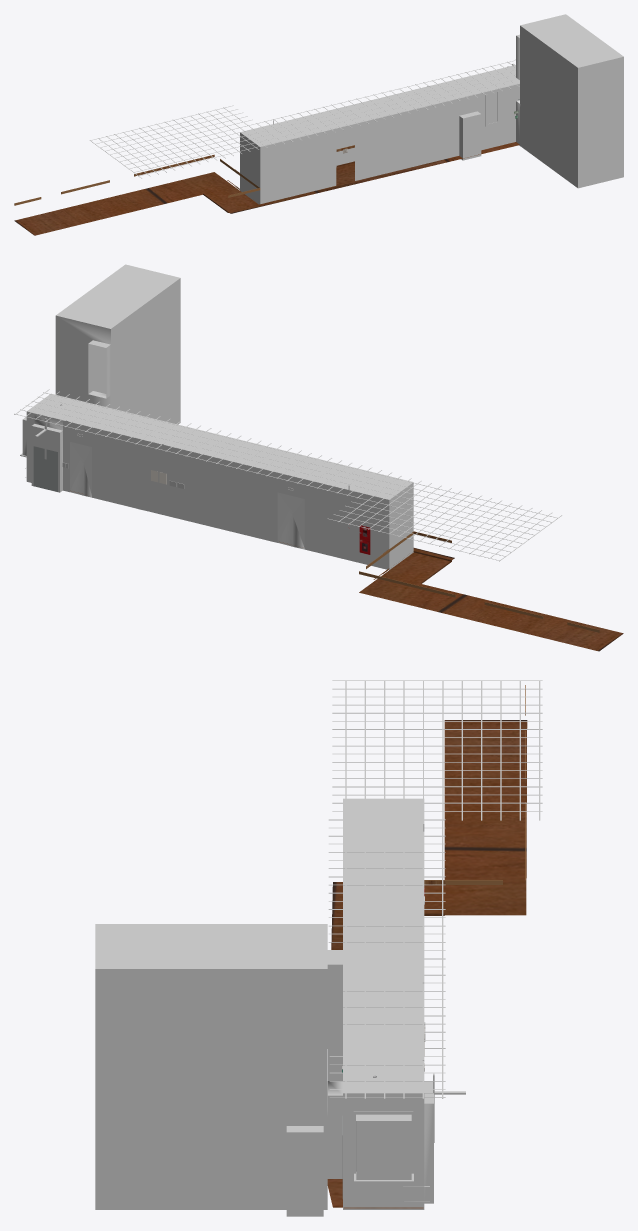
The model's file is korridor1.FBX.
The picture shows the model from 3 angles, top to bottom: view 1: azimuth 30°, elevation 25°; view 2: azimuth 150°, elevation 25°; view 3: azimuth 270°, elevation 25°; orthographic projection. The views are drawn at different scales.
Parts seen in each view (by area): view 1: korridor1, Box307, floor003, Box659, Box658, Box657, Box671, Box648; view 2: korridor1, Box307, floor003, Box659, Box657, Box658, Cylinder050, Box648, Box649; view 3: Box307, korridor1, floor003, Box659, Box658, Box657.
Part boxes in pixels (<box>): korridor1: <box>240,65,519,204</box>; Box307: <box>516,14,623,188</box>; floor003: <box>14,142,519,235</box>; Box659: <box>89,105,280,178</box>; Box658: <box>256,89,422,144</box>; Box657: <box>399,59,519,109</box>; Box671: <box>459,111,481,160</box>; Box648: <box>14,145,354,205</box>; korridor1: <box>22,393,413,570</box>; Box307: <box>55,264,180,424</box>; floor003: <box>70,490,623,651</box>; Box659: <box>327,476,562,561</box>; Box657: <box>14,389,221,456</box>; Box658: <box>187,433,391,498</box>; Cylinder050: <box>33,446,57,491</box>; Box648: <box>359,531,599,632</box>; Box649: <box>62,462,370,554</box>; Box307: <box>95,924,342,1216</box>; korridor1: <box>342,798,433,1209</box>; floor003: <box>327,720,527,1208</box>; Box659: <box>332,680,542,820</box>; Box658: <box>328,819,445,958</box>; Box657: <box>329,958,445,1098</box>.
Size of the model in its own units: 0.0304 by 0.00692 by 0.0116.
